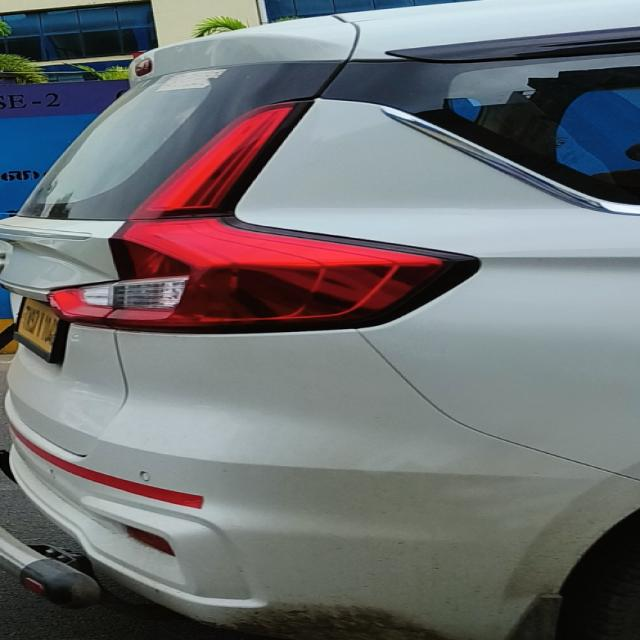scratch: (189, 595, 457, 639)
